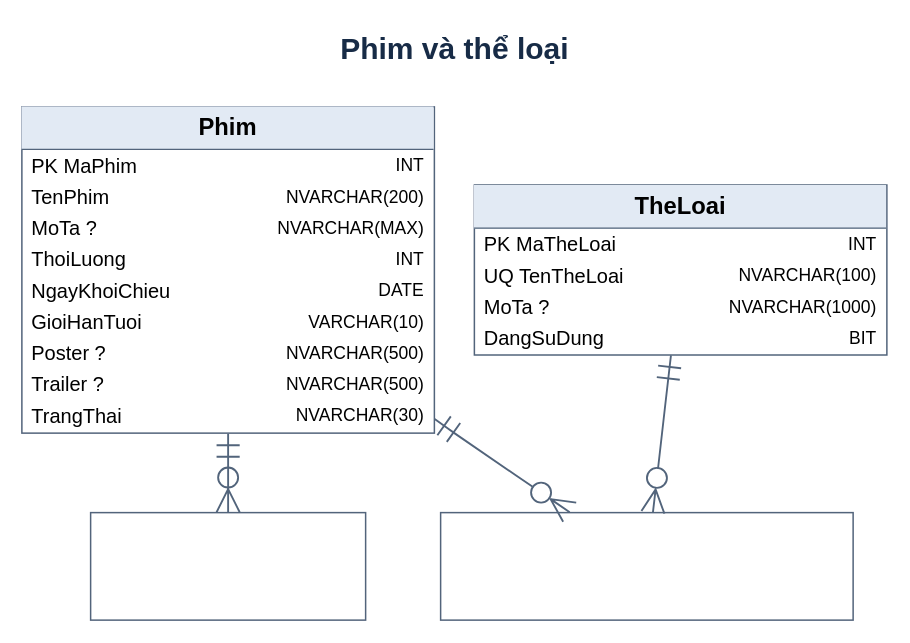
The diagram is 910 pixels wide and 643 high, and some of its shapes have lost their labels. The shapes that lost their labels are listed below. From the top down, each one's box as (x1, y1, x2, y2) in pixels, then its label:
(89, 511, 366, 620): SuatChieu ↗ PK MaSuatChieu FK MaPhim
(439, 511, 853, 620): PhimTheLoai PK / FK MaPhim INT PK / FK MaTheLoai INT
